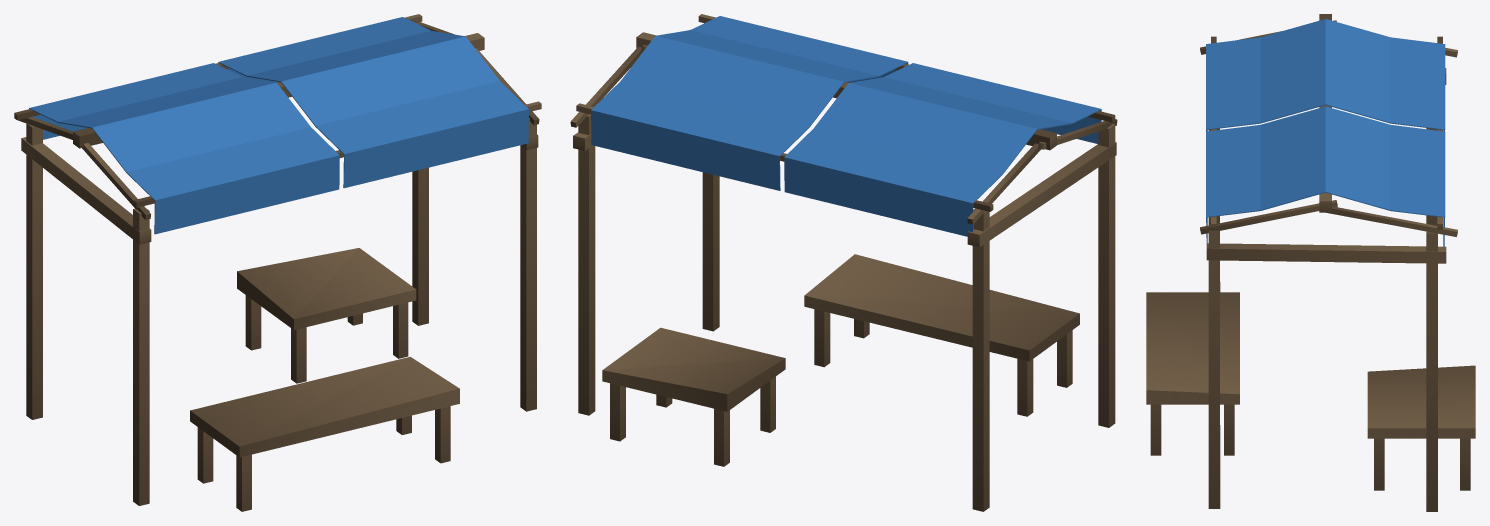
Rendered from ZLP_Build_D_12.FBX.
3 views of the same model, side by side, from view 1: azimuth 30°, elevation 25°; view 2: azimuth 150°, elevation 25°; view 3: azimuth 270°, elevation 25° (orthographic). The views are drawn at different scales.
Visible parts, largest first — view 1: ZLP_Build_D_12; view 2: ZLP_Build_D_12; view 3: ZLP_Build_D_12.
Boxes of the visible parts, x1,y1,x2,y2 form: ZLP_Build_D_12: (14, 14, 541, 511); ZLP_Build_D_12: (570, 14, 1117, 511); ZLP_Build_D_12: (1146, 14, 1475, 511).
Bounding box in the file's own units: 221 × 172 × 164.
